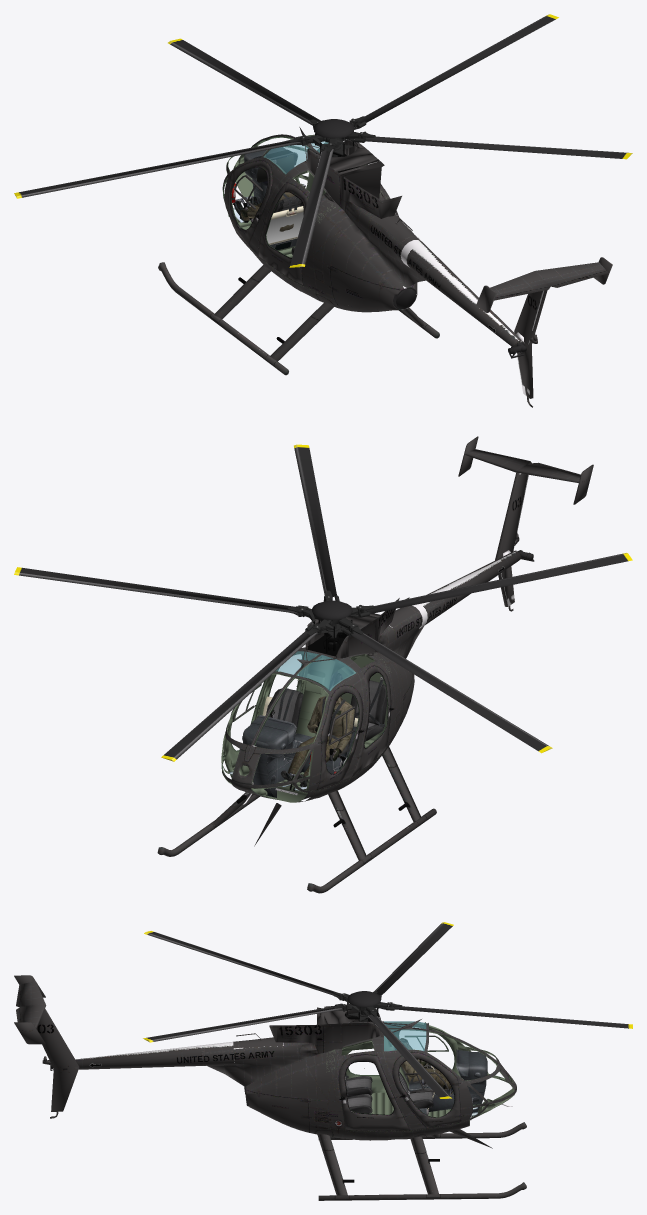
The model's file is md5_int2.glb.
3 views of the same model, one above another, from view 1: azimuth 30°, elevation 25°; view 2: azimuth 150°, elevation 25°; view 3: azimuth 270°, elevation 25° (orthographic). The views are drawn at different scales.
Parts seen in each view (by area): view 1: ext_fuse_shadow, rotor_blades, ext_fuse, ext_fuse_skids, ixt_console, ext_fuse_doorLB, ext_fuse_doorL, int_fuse, rotor_hub, glasss_grn; view 2: rotor_blades, ext_fuse_shadow, ext_fuse, ixt_console, ext_fuse_skids, int_fuse, ixt_pilot, ext_fuse_doorL, glasss_grn, ixt_seatsL, ext_fuse_doorLB, ixt_seatsR (+1 smaller); view 3: ext_fuse_shadow, ext_fuse, rotor_blades, ext_fuse_skids, ext_fuse_doorRB, ixt_console, int_fuse, ext_fuse_doorR, ixt_seatsR, glasss_grn, rotor_hub, ixt_seatsL (+2 smaller).
Boxes of the visible parts, box(x1,y1,x2,y2) form: ext_fuse_shadow: box(234, 177, 612, 407); rotor_blades: box(14, 14, 632, 267); ext_fuse: box(222, 134, 398, 297); ext_fuse_skids: box(158, 262, 439, 375); ixt_console: box(231, 147, 325, 250); ext_fuse_doorLB: box(258, 182, 308, 284); ext_fuse_doorL: box(228, 160, 272, 245); int_fuse: box(222, 134, 388, 293); rotor_hub: box(314, 119, 353, 156); glasss_grn: box(264, 141, 328, 174); rotor_blades: box(14, 444, 632, 761); ext_fuse_shadow: box(304, 436, 593, 801); ext_fuse: box(221, 613, 400, 846); ixt_console: box(242, 655, 358, 797); ext_fuse_skids: box(157, 746, 436, 893); int_fuse: box(221, 651, 391, 802); ixt_pilot: box(280, 696, 354, 786); ext_fuse_doorL: box(317, 685, 363, 789); glasss_grn: box(276, 651, 355, 690); ixt_seatsL: box(310, 677, 387, 760); ext_fuse_doorLB: box(352, 665, 393, 776); ixt_seatsR: box(266, 671, 342, 733); ext_fuse_shadow: box(14, 975, 464, 1140); ext_fuse: box(317, 1006, 516, 1148); rotor_blades: box(143, 922, 632, 1098); ext_fuse_skids: box(317, 1122, 526, 1200); ext_fuse_doorRB: box(338, 1054, 409, 1130); ixt_console: box(341, 1036, 487, 1116); int_fuse: box(326, 1021, 514, 1132); ext_fuse_doorR: box(392, 1052, 461, 1127); ixt_seatsR: box(347, 1071, 433, 1113); glasss_grn: box(384, 1021, 426, 1051); rotor_hub: box(347, 991, 381, 1021); ixt_seatsL: box(345, 1045, 430, 1096).
Size of the model in its own units: 7.65 by 3.22 by 9.2.
15 materials, 11 textured.
